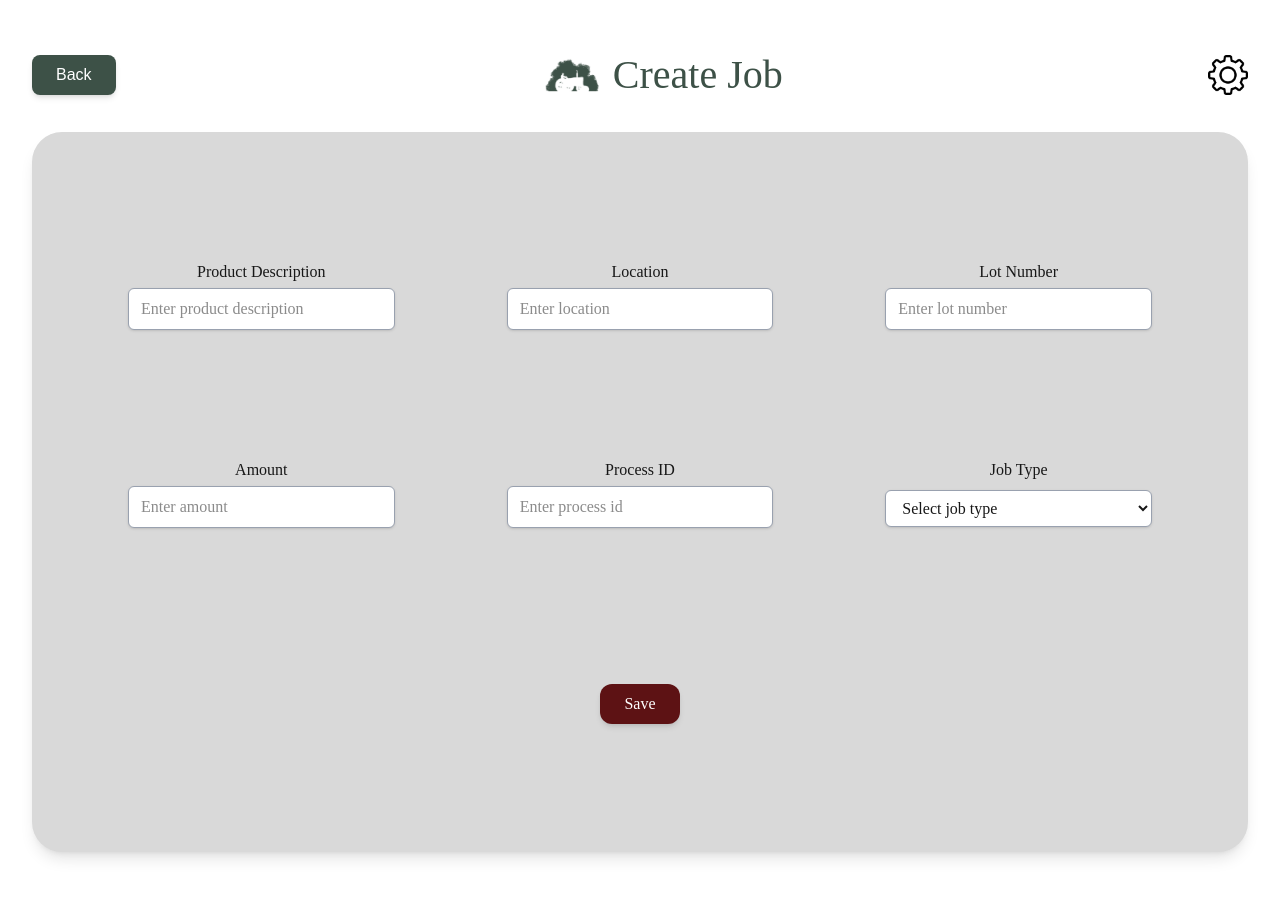
CreateJob page › shows backend validation error from 400 response
Type "Corn" into the field labelled "Product Description" at (261, 309), box [128,288,395,330]
Type "Silo 12" into the field labelled "Location" at (640, 309), box [507,288,773,330]
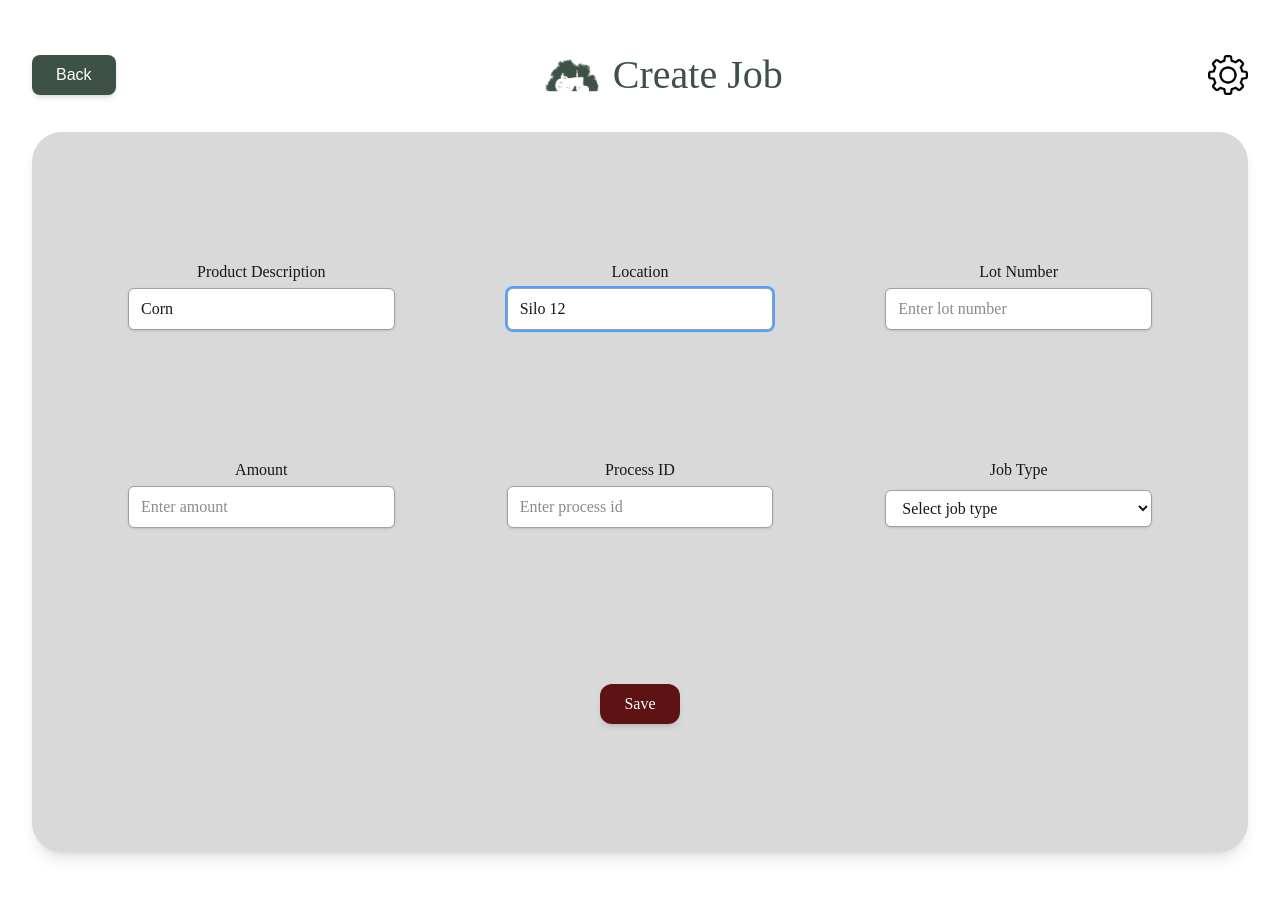
Type "P23C3" into the field labelled "Lot Number" at (1019, 309), box [885,288,1152,330]
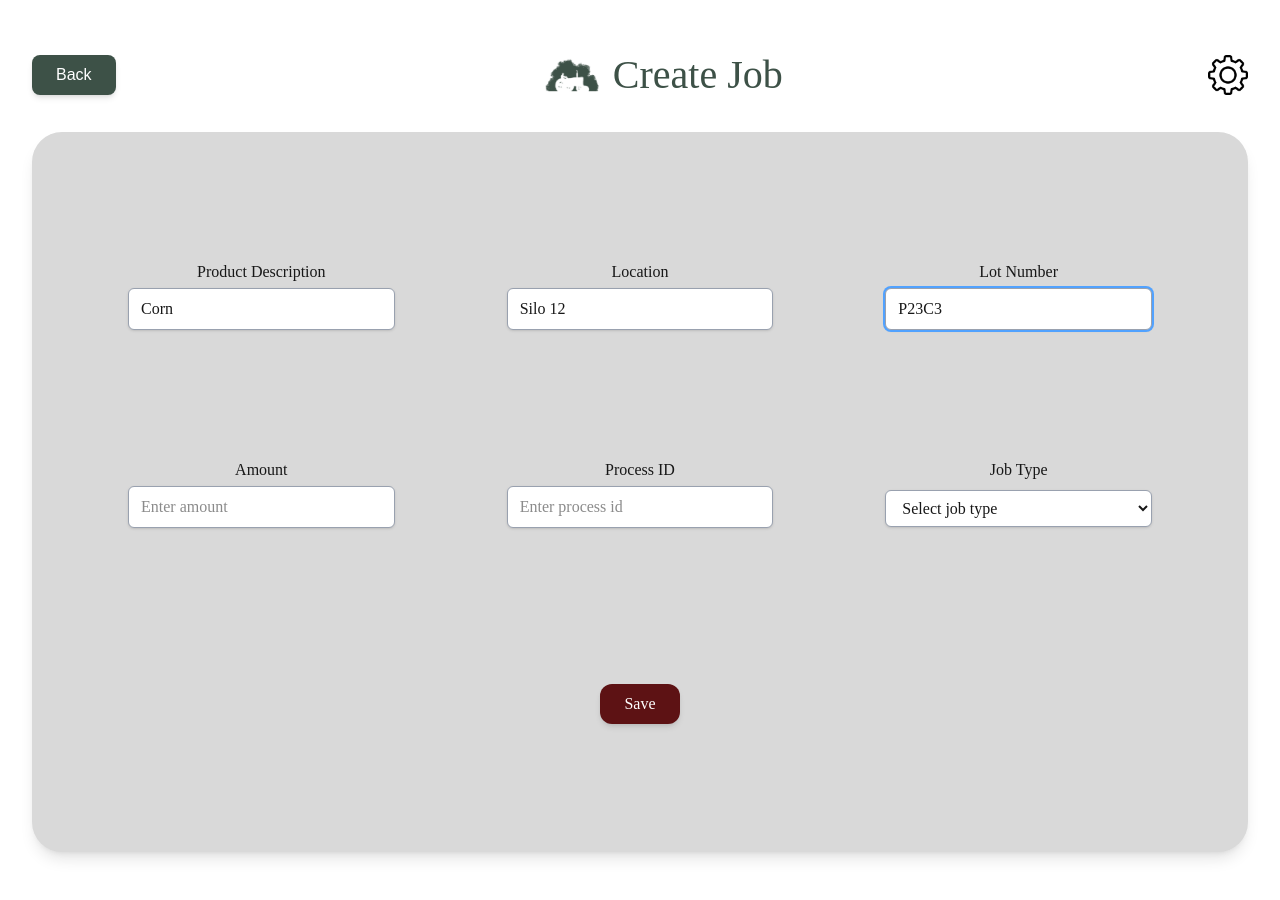
Type "1000" into the number field labelled "Amount" at (261, 507), box [128,486,395,528]
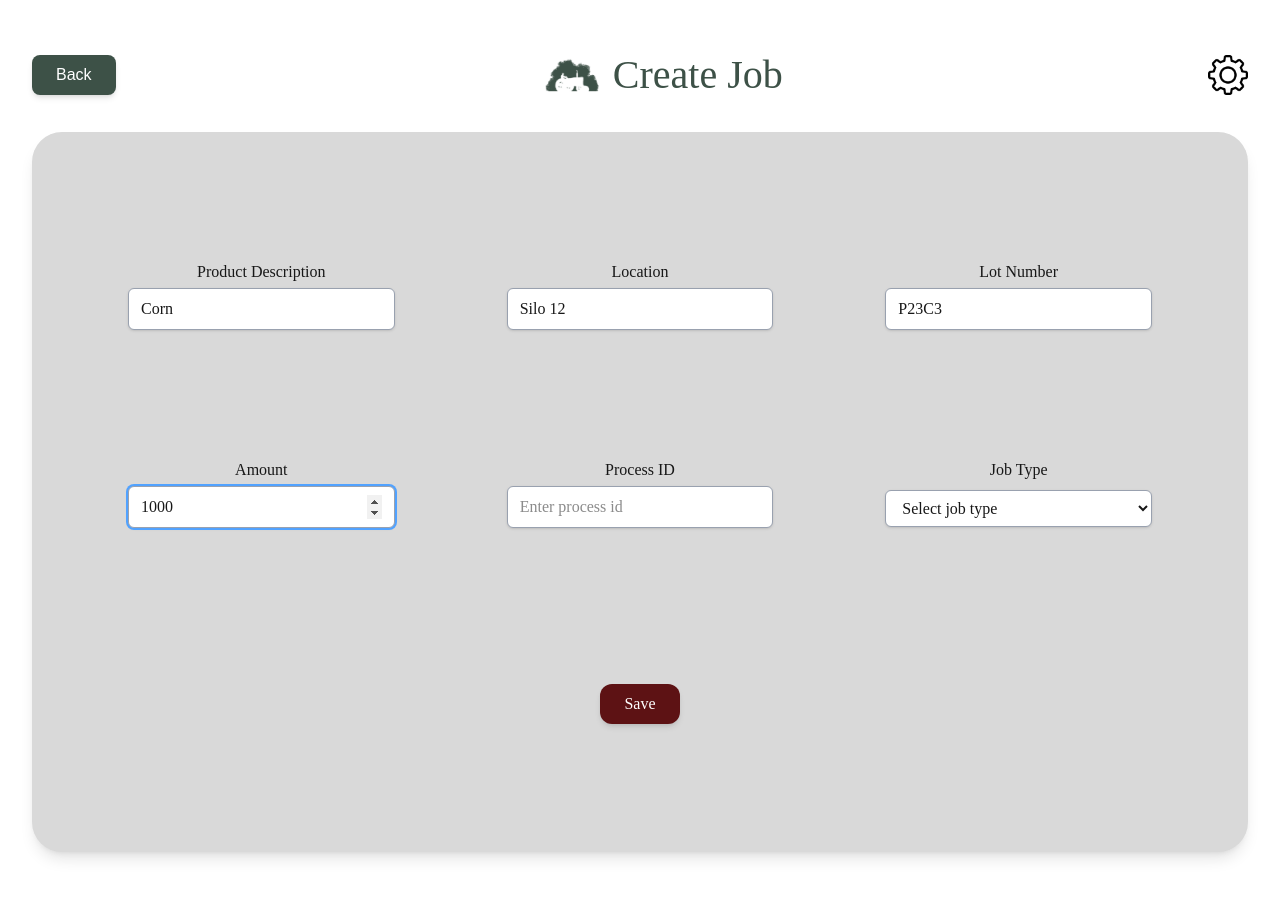
Type "1234" into the field labelled "Process ID" at (640, 507), box [507,486,773,528]
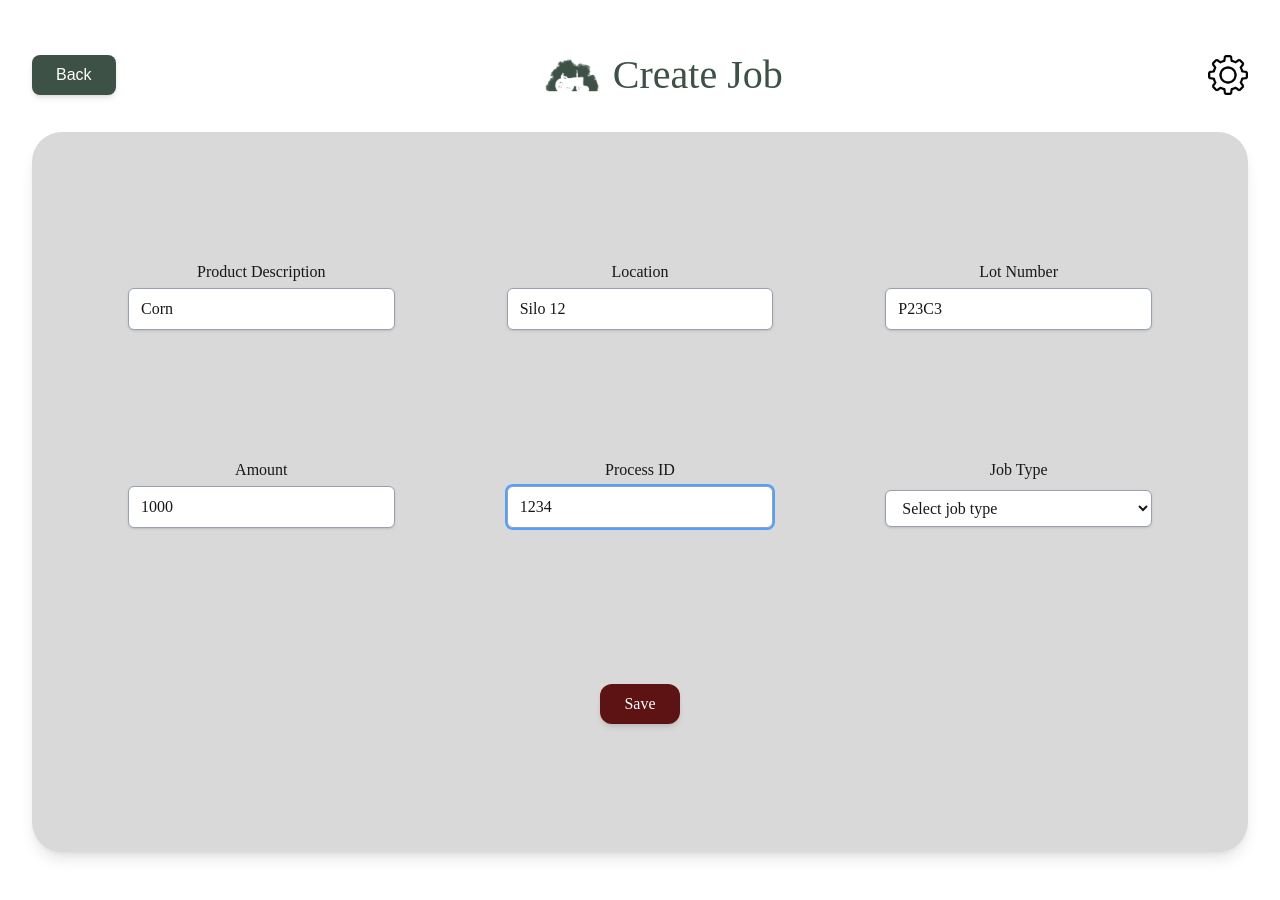
Select "Qsage" in the dropdown labelled "Job Type" at (1019, 508), box [885,490,1152,527]
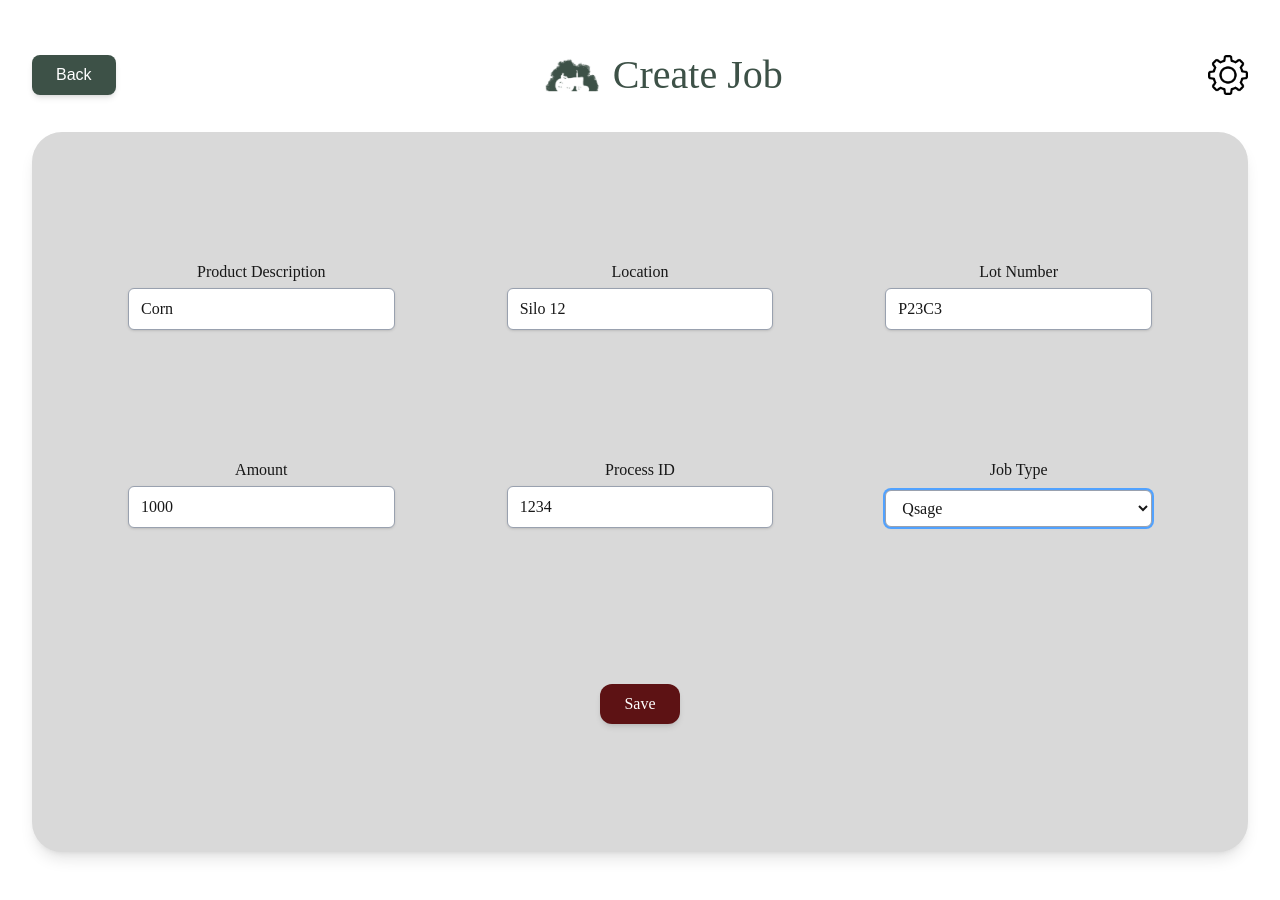
Click the button "Save" at (640, 704), box [600,684,680,724]
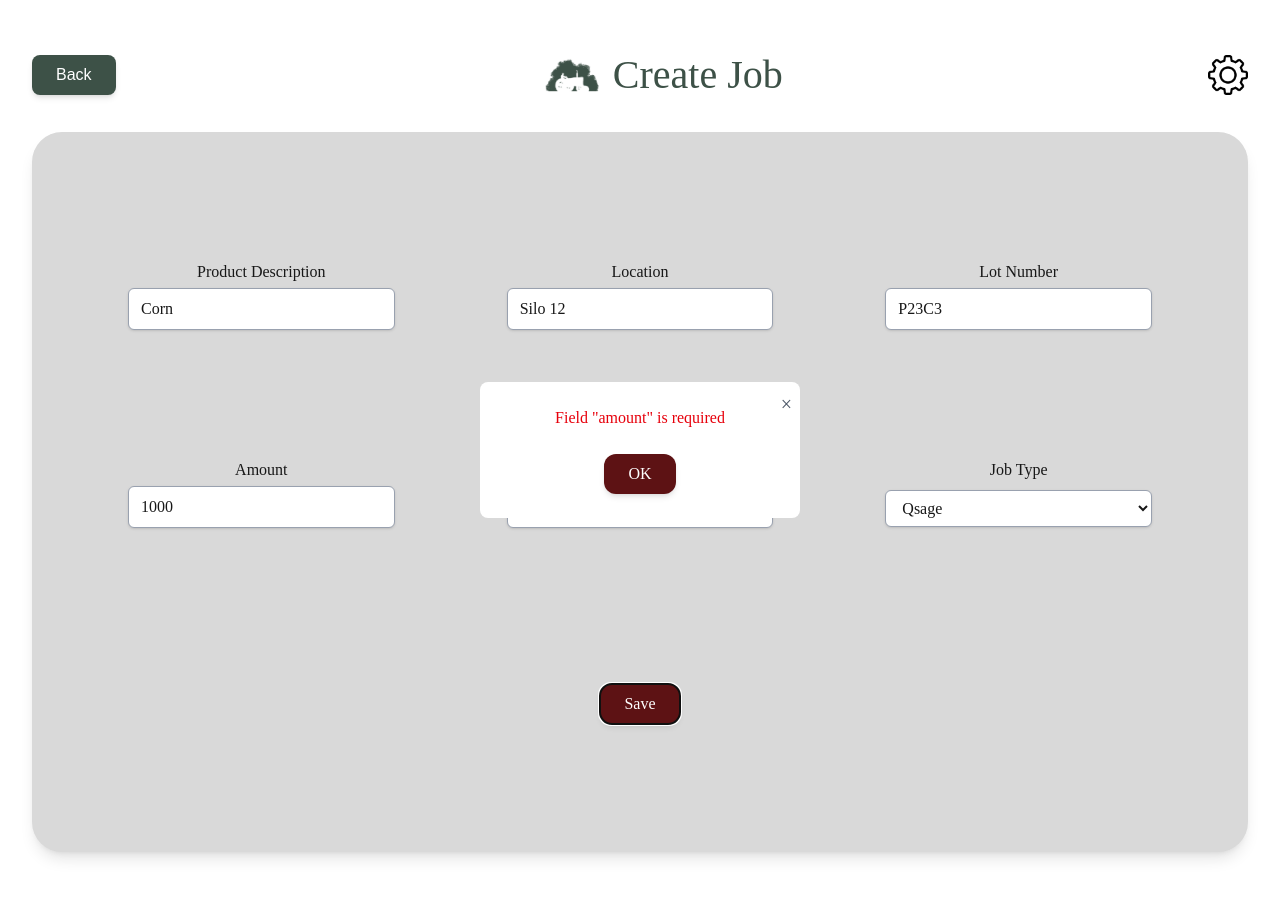
Expected: the text "Field \"amount\" is required" is shown, [555,409,725,426]
